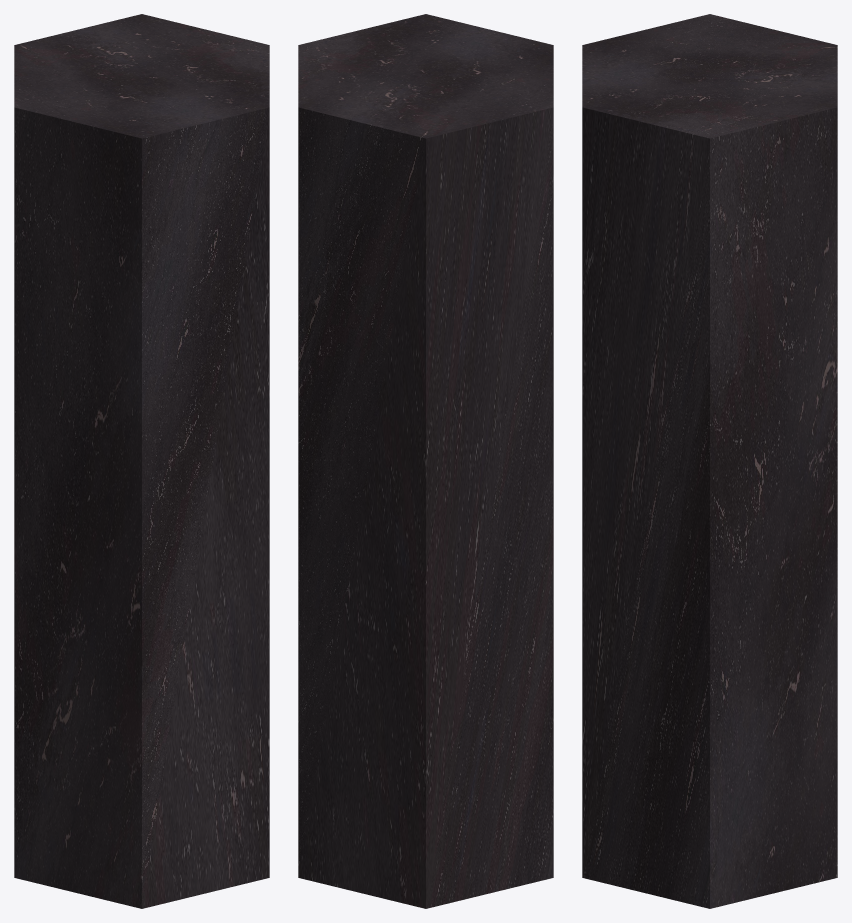
The model's file is basalt-test-1.glb.
3 renders of one model, left to right at view 1: azimuth 30°, elevation 25°; view 2: azimuth 150°, elevation 25°; view 3: azimuth 270°, elevation 25°, orthographic.
Parts seen in each view (by area): view 1: Pentagon_n3d; view 2: Pentagon_n3d; view 3: Pentagon_n3d.
Boxes of the visible parts, bbox=[...] form: Pentagon_n3d: bbox=[14, 14, 269, 908]; Pentagon_n3d: bbox=[298, 14, 553, 908]; Pentagon_n3d: bbox=[582, 14, 837, 908].
Size of the model in its own units: 0.086 by 0.248 by 0.0745.
Materials: 1 (1 with a texture image).
